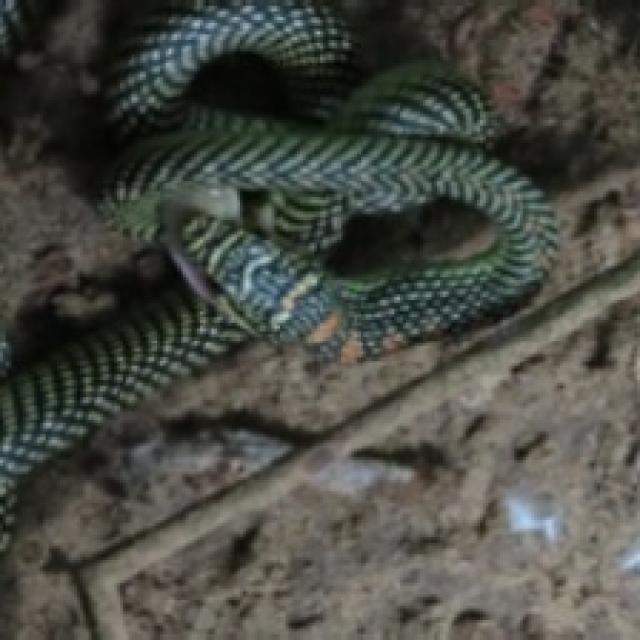paradise tree snake: (0, 0, 556, 541)
